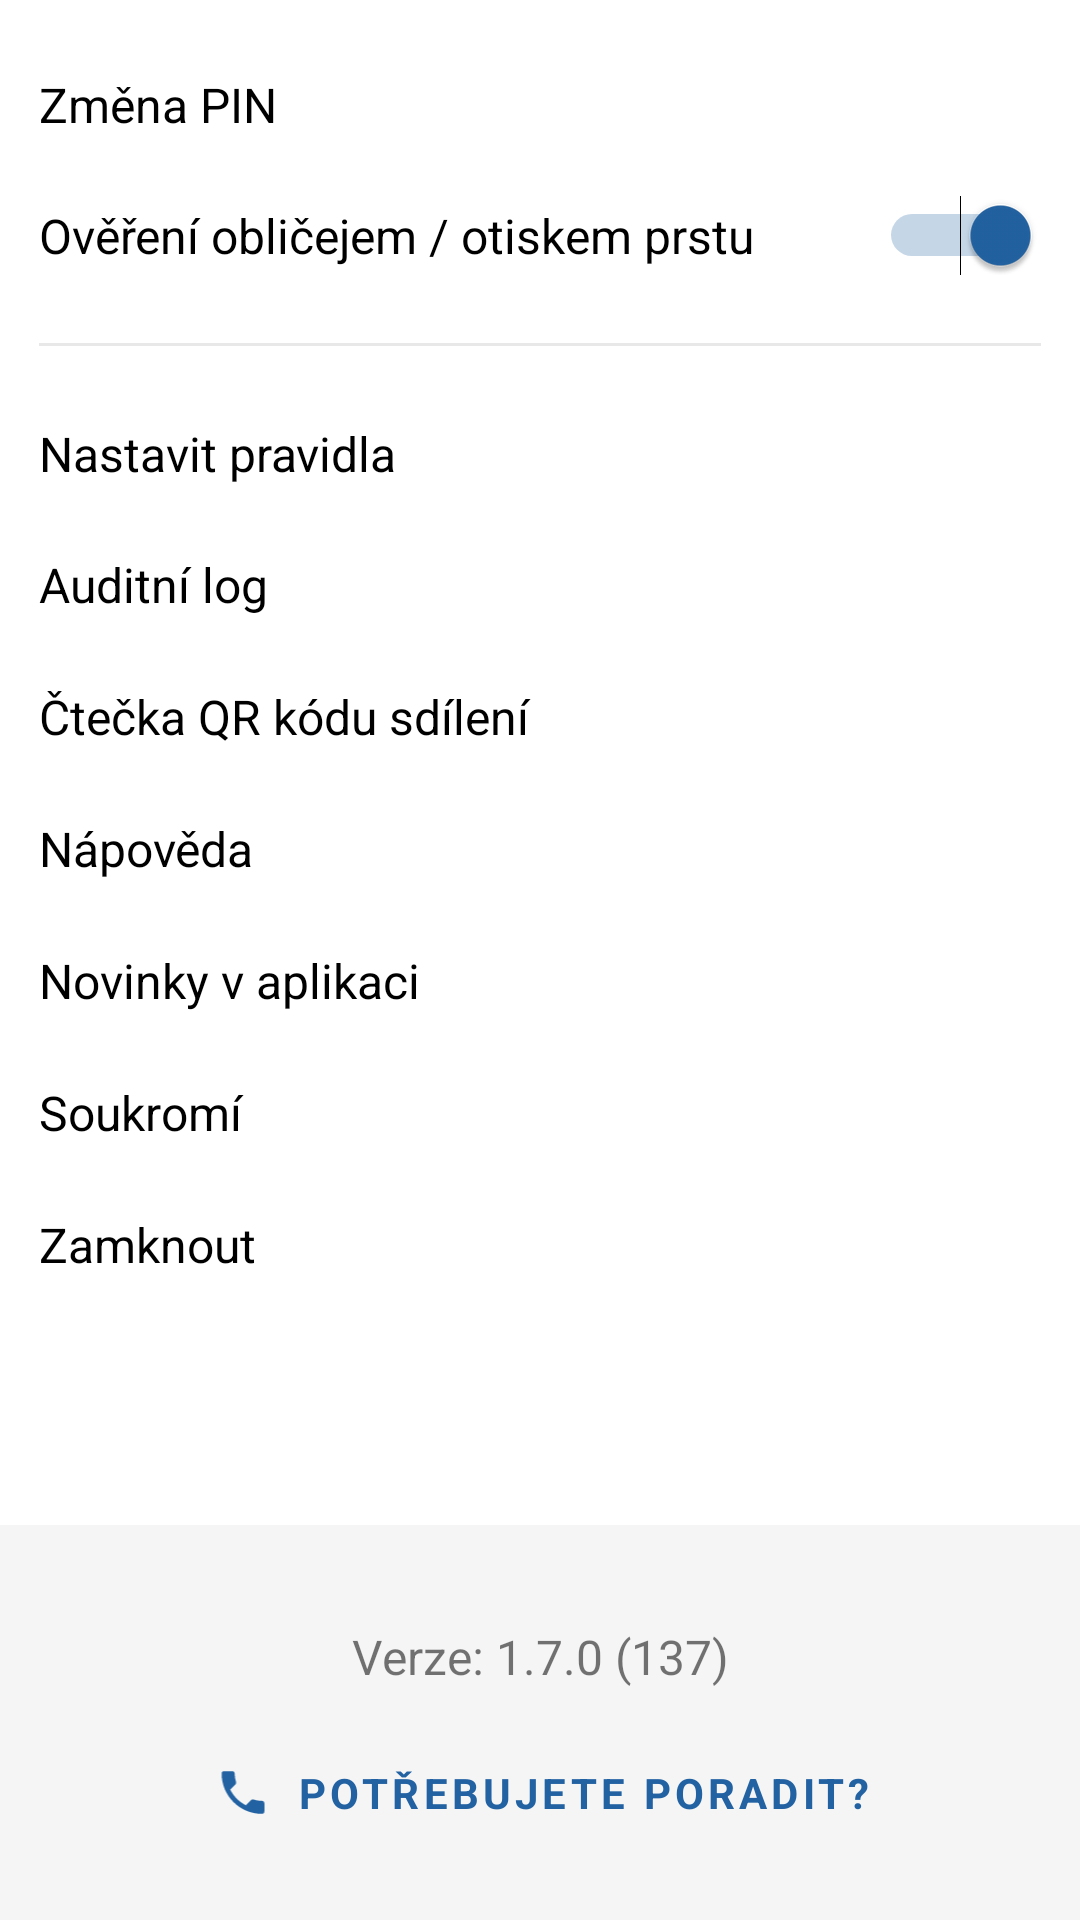

Icon bounding boxes for this 1080 x 1920 phone screenshot, format {"x1": x1, "y1": y1, "x2": x2, "y2": y2}:
phone: {"x1": 221, "y1": 1771, "x2": 265, "y2": 1814}
